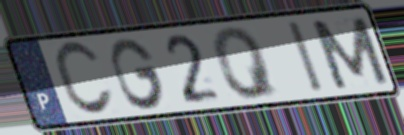2: (164, 32, 225, 106)
C: (51, 38, 117, 119)
G: (107, 35, 168, 112)
I: (284, 18, 329, 96)
M: (306, 14, 393, 92)
Q: (209, 24, 283, 102)
